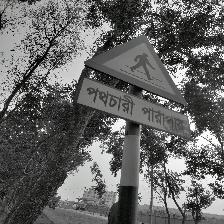Pedestrian-crossing: (74, 33, 192, 138)
